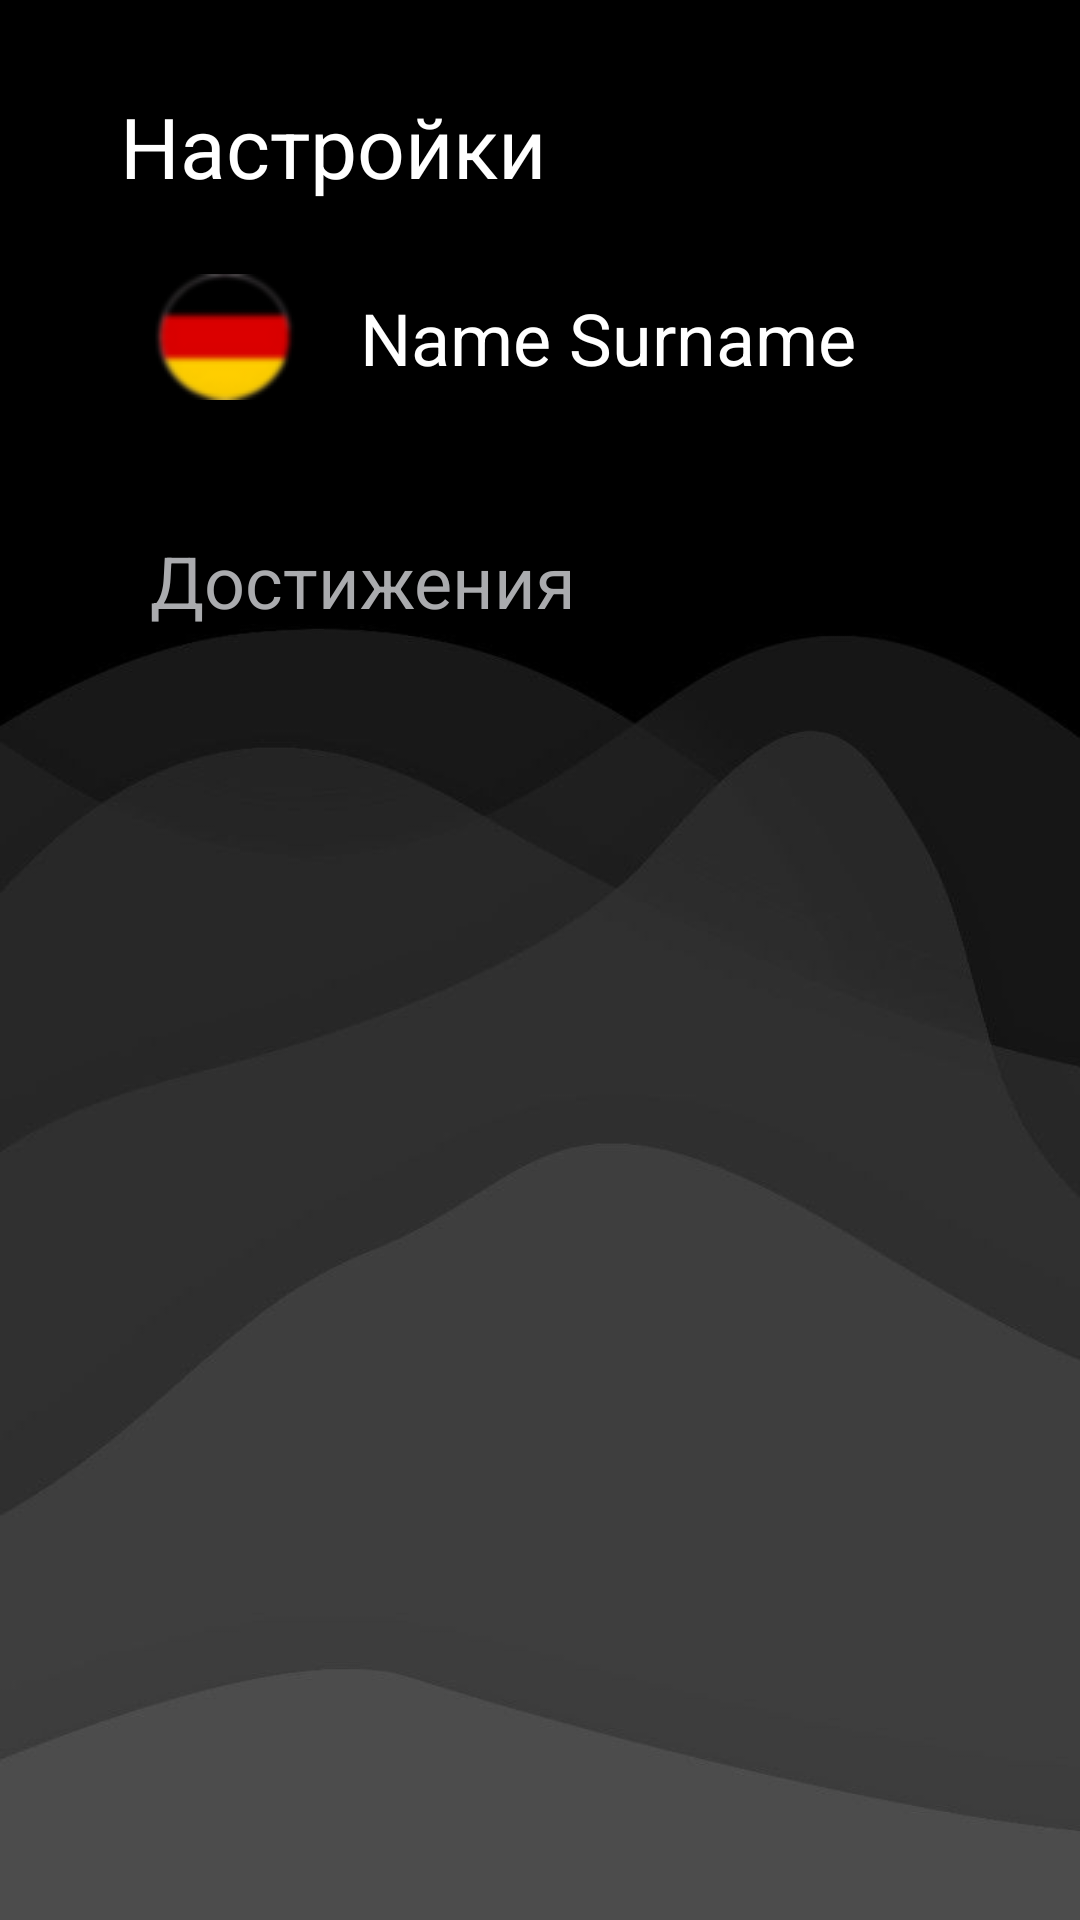

Named icons in this screenshot (1080w x 1920h) and their centers, point (x, y):
germany: point (224, 337)
